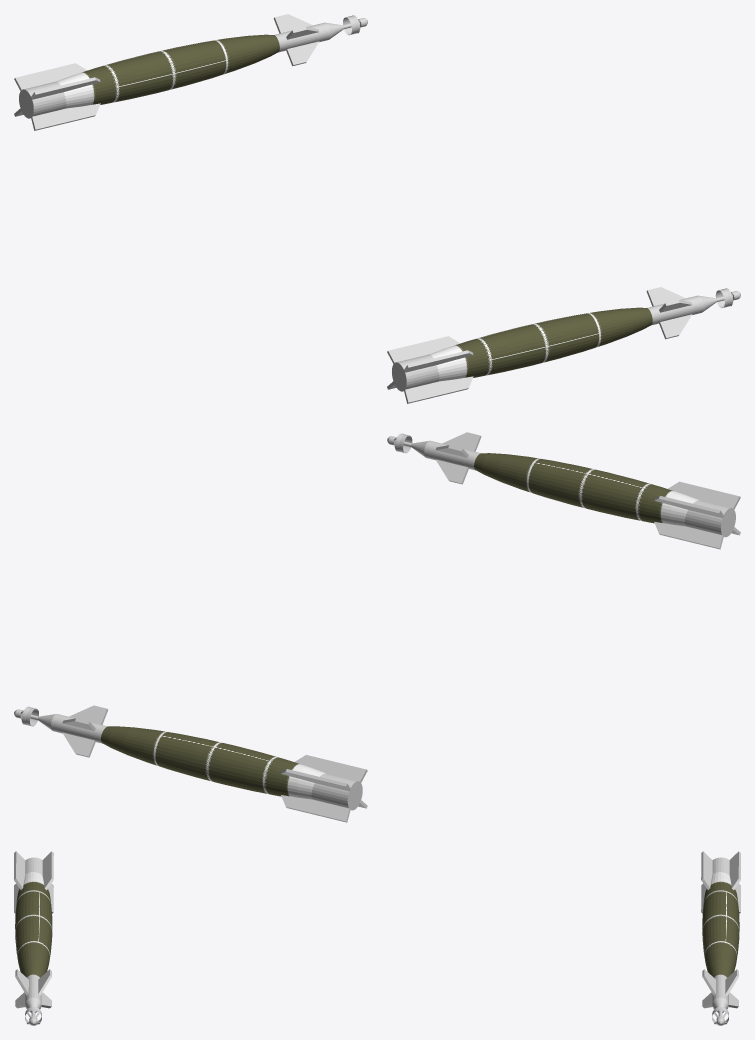
Rendered from f15egbu1017.glb.
The picture shows the model from 3 angles, top to bottom: view 1: azimuth 30°, elevation 25°; view 2: azimuth 150°, elevation 25°; view 3: azimuth 270°, elevation 25°; orthographic projection. The views are drawn at different scales.
Parts seen in each view (by area): view 1: 球.002, 球.001; view 2: 球.002, 球.001; view 3: 球.002, 球.001.
Part boxes in pixels (x1,y1,x2,y2): 球.002: [387, 287, 740, 403]; 球.001: [14, 14, 367, 130]; 球.002: [387, 432, 740, 549]; 球.001: [14, 705, 367, 822]; 球.002: [14, 851, 53, 1025]; 球.001: [701, 851, 740, 1025].
Size of the model in its own units: 4.24 by 0.4634 by 8.46.
1 material, 1 textured.
